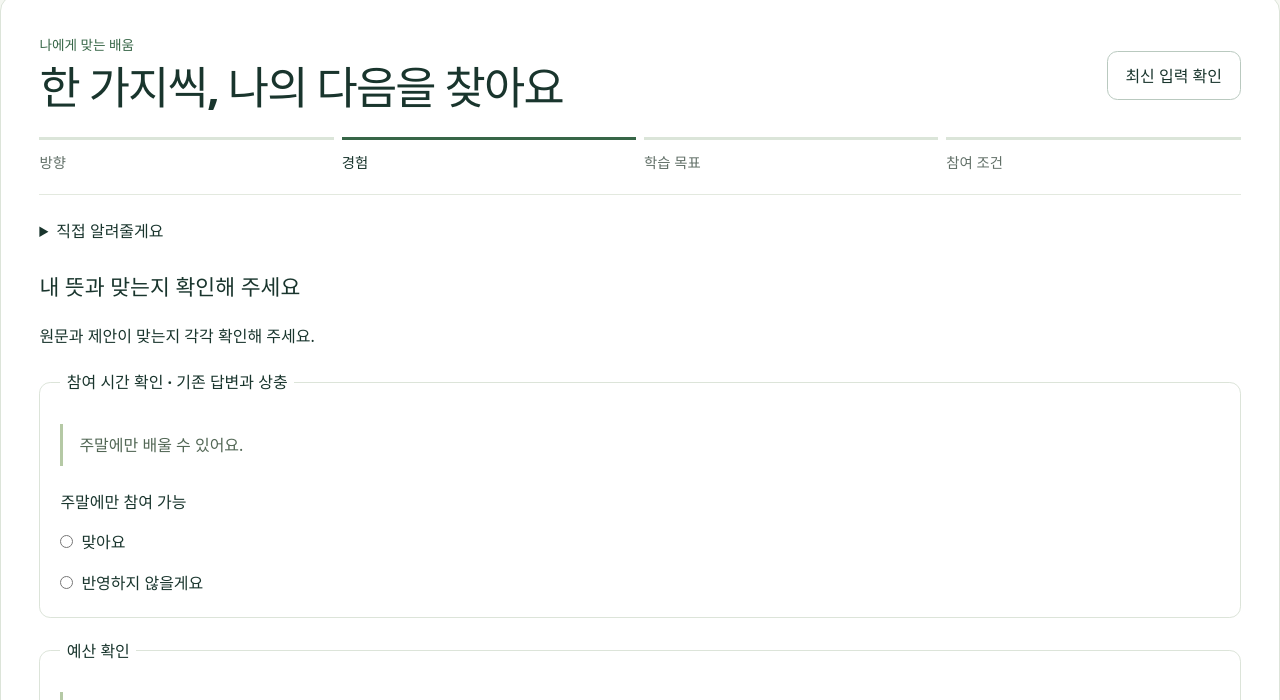
Scenario: 해석 제안 확인과 수락·거절 › 모두 거절해도 빈 수락 목록과 전체 거절 목록을 보낸다
Expected: the text "원문과 제안이 맞는지 각각 확인해 주세요." is shown, [39,325,315,347]
Click the radio button labelled "반영하지 않을게요" at {"x": 67, "y": 583}, box [60,576,73,589]
(page scrolled)
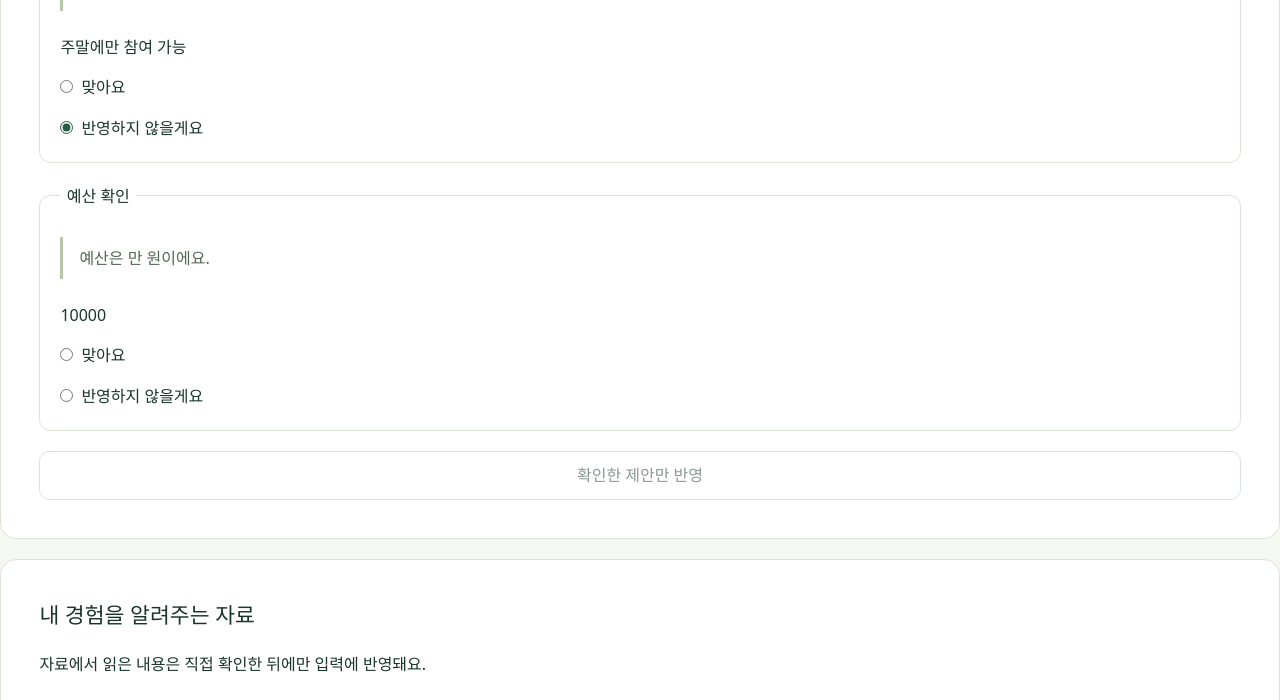
Click the radio button labelled "반영하지 않을게요" below "10000" at {"x": 67, "y": 396}, box [60,389,73,402]
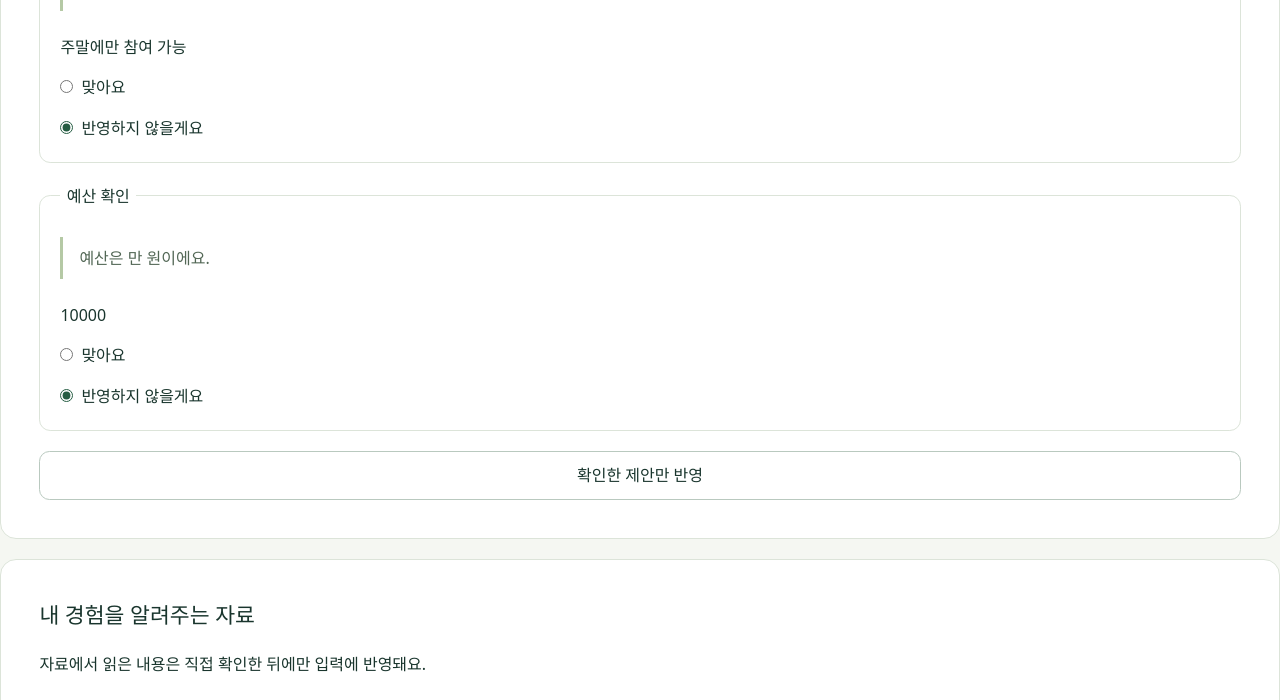
Click the button "확인한 제안만 반영" at {"x": 640, "y": 475}, box [39,451,1241,500]
(page scrolled)
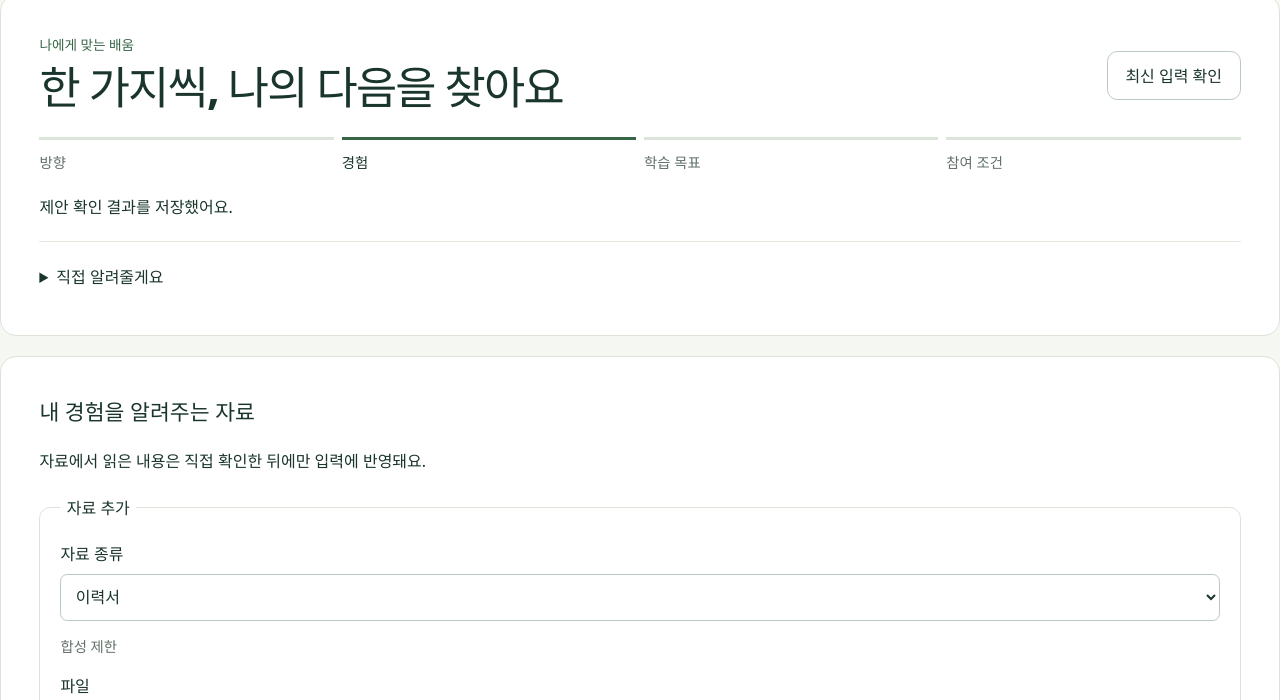
Now the text "제안 확인 결과를 저장했어요." is shown, box [39,196,233,218]
